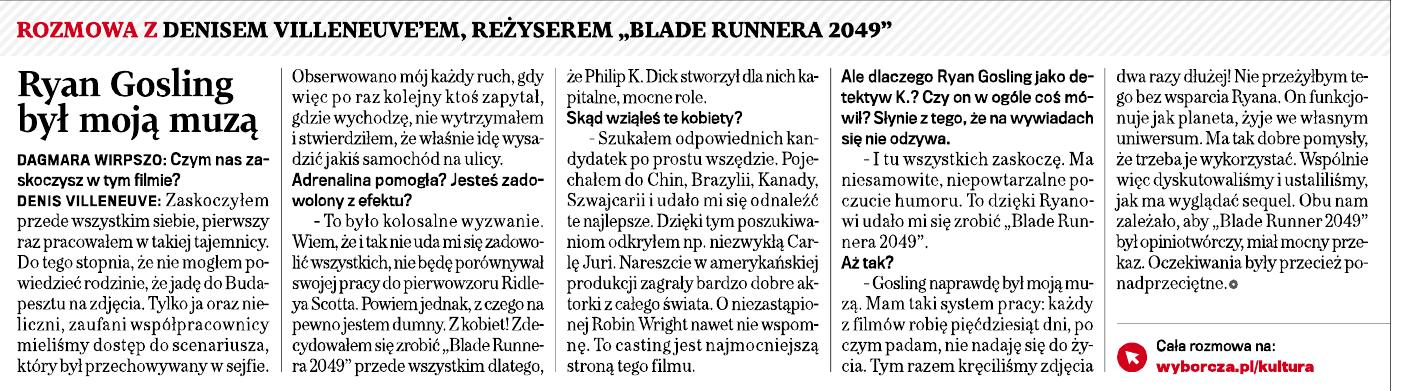body: (834, 65, 1099, 380), (560, 65, 825, 379), (289, 60, 547, 380), (10, 144, 278, 383), (1108, 61, 1378, 296)
lead: (14, 60, 269, 140)
title: (10, 8, 901, 51)
